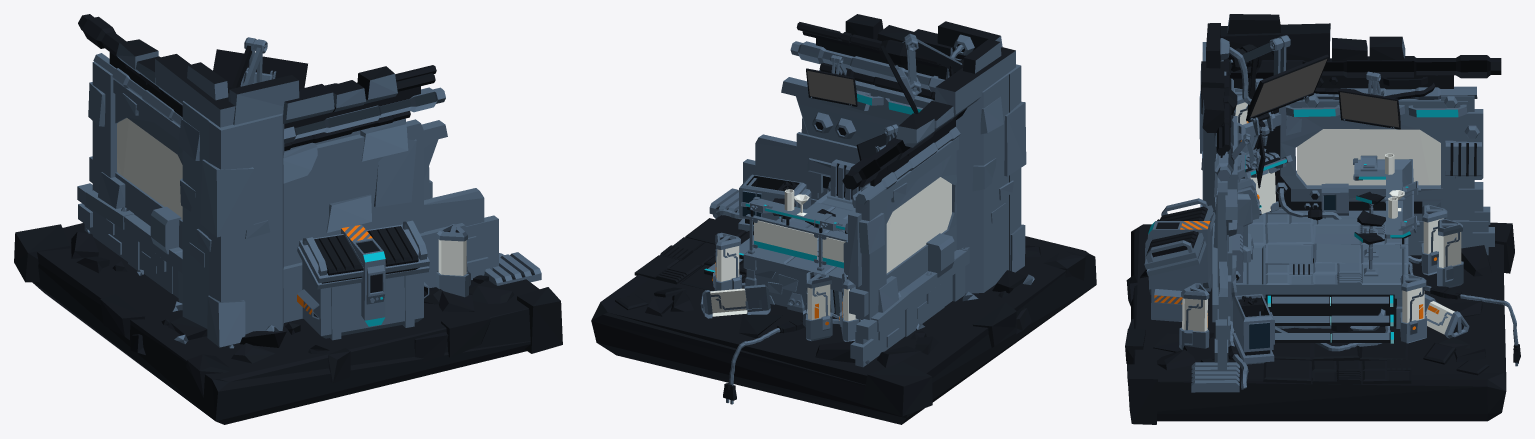
Rendered from cyberpunk_bar.obj.
The picture shows the model from 3 angles, left to right: view 1: azimuth 30°, elevation 25°; view 2: azimuth 150°, elevation 25°; view 3: azimuth 270°, elevation 25°; orthographic projection. The views are drawn at different scales.
Visible parts, largest first — view 1: Object_6_Mesh_3, Object_11_Mesh_8, Object_9_Mesh_6, Object_13_Mesh_10, Object_7_Mesh_4; view 2: Object_11_Mesh_8, Object_6_Mesh_3, Object_9_Mesh_6, Object_7_Mesh_4, Object_13_Mesh_10, Object_12_Mesh_9, Object_15_Mesh_12, Object_8_Mesh_5, Object_10_Mesh_7; view 3: Object_11_Mesh_8, Object_6_Mesh_3, Object_7_Mesh_4, Object_13_Mesh_10, Object_9_Mesh_6, Object_12_Mesh_9, Object_8_Mesh_5, Object_10_Mesh_7, Object_15_Mesh_12, Object_5_Mesh_2, Object_4_Mesh_1.
Part boxes in pixels (box(x1,y1,x2,y2)): Object_6_Mesh_3: box(77, 43, 498, 348); Object_11_Mesh_8: box(14, 14, 562, 424); Object_9_Mesh_6: box(115, 37, 470, 297); Object_13_Mesh_10: box(117, 118, 466, 275); Object_7_Mesh_4: box(93, 53, 541, 285); Object_11_Mesh_8: box(591, 14, 1096, 424); Object_6_Mesh_3: box(708, 36, 1034, 404); Object_9_Mesh_6: box(700, 33, 956, 318); Object_7_Mesh_4: box(709, 34, 974, 312); Object_13_Mesh_10: box(710, 177, 951, 321); Object_12_Mesh_9: box(807, 70, 855, 104); Object_15_Mesh_12: box(704, 94, 921, 272); Object_8_Mesh_5: box(713, 44, 963, 385); Object_10_Mesh_7: box(745, 175, 835, 225); Object_11_Mesh_8: box(1125, 14, 1520, 424); Object_6_Mesh_3: box(1144, 15, 1518, 369); Object_7_Mesh_4: box(1191, 38, 1479, 392); Object_13_Mesh_10: box(1182, 102, 1461, 334); Object_9_Mesh_6: box(1179, 35, 1469, 349); Object_12_Mesh_9: box(1250, 59, 1398, 127); Object_8_Mesh_5: box(1228, 47, 1518, 389); Object_10_Mesh_7: box(1238, 191, 1385, 355); Object_15_Mesh_12: box(1148, 109, 1458, 339); Object_5_Mesh_2: box(1249, 192, 1335, 349); Object_4_Mesh_1: box(1154, 121, 1439, 329).
Bounding box in the file's own units: 5.97 × 4.96 × 6.
